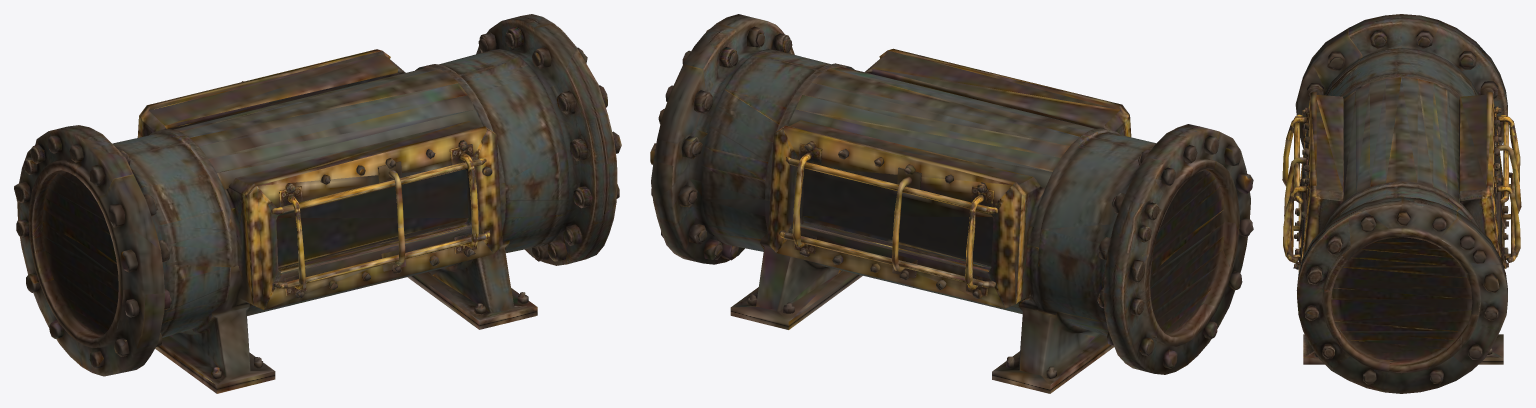
The model's file is reactor-sight-glass-spool.glb.
3 views of the same model, side by side, from view 1: azimuth 30°, elevation 25°; view 2: azimuth 150°, elevation 25°; view 3: azimuth 270°, elevation 25° (orthographic). The views are drawn at different scales.
Parts seen in each view (by area): view 1: reactor-sight-glass-spool; view 2: reactor-sight-glass-spool; view 3: reactor-sight-glass-spool.
Part boxes in pixels (bbox=[...]): reactor-sight-glass-spool: bbox=[14, 14, 621, 393]; reactor-sight-glass-spool: bbox=[650, 14, 1253, 393]; reactor-sight-glass-spool: bbox=[1282, 14, 1521, 393].
Bounding box in the file's own units: 1.6 × 0.714 × 0.8116.
1 material, 1 textured.
